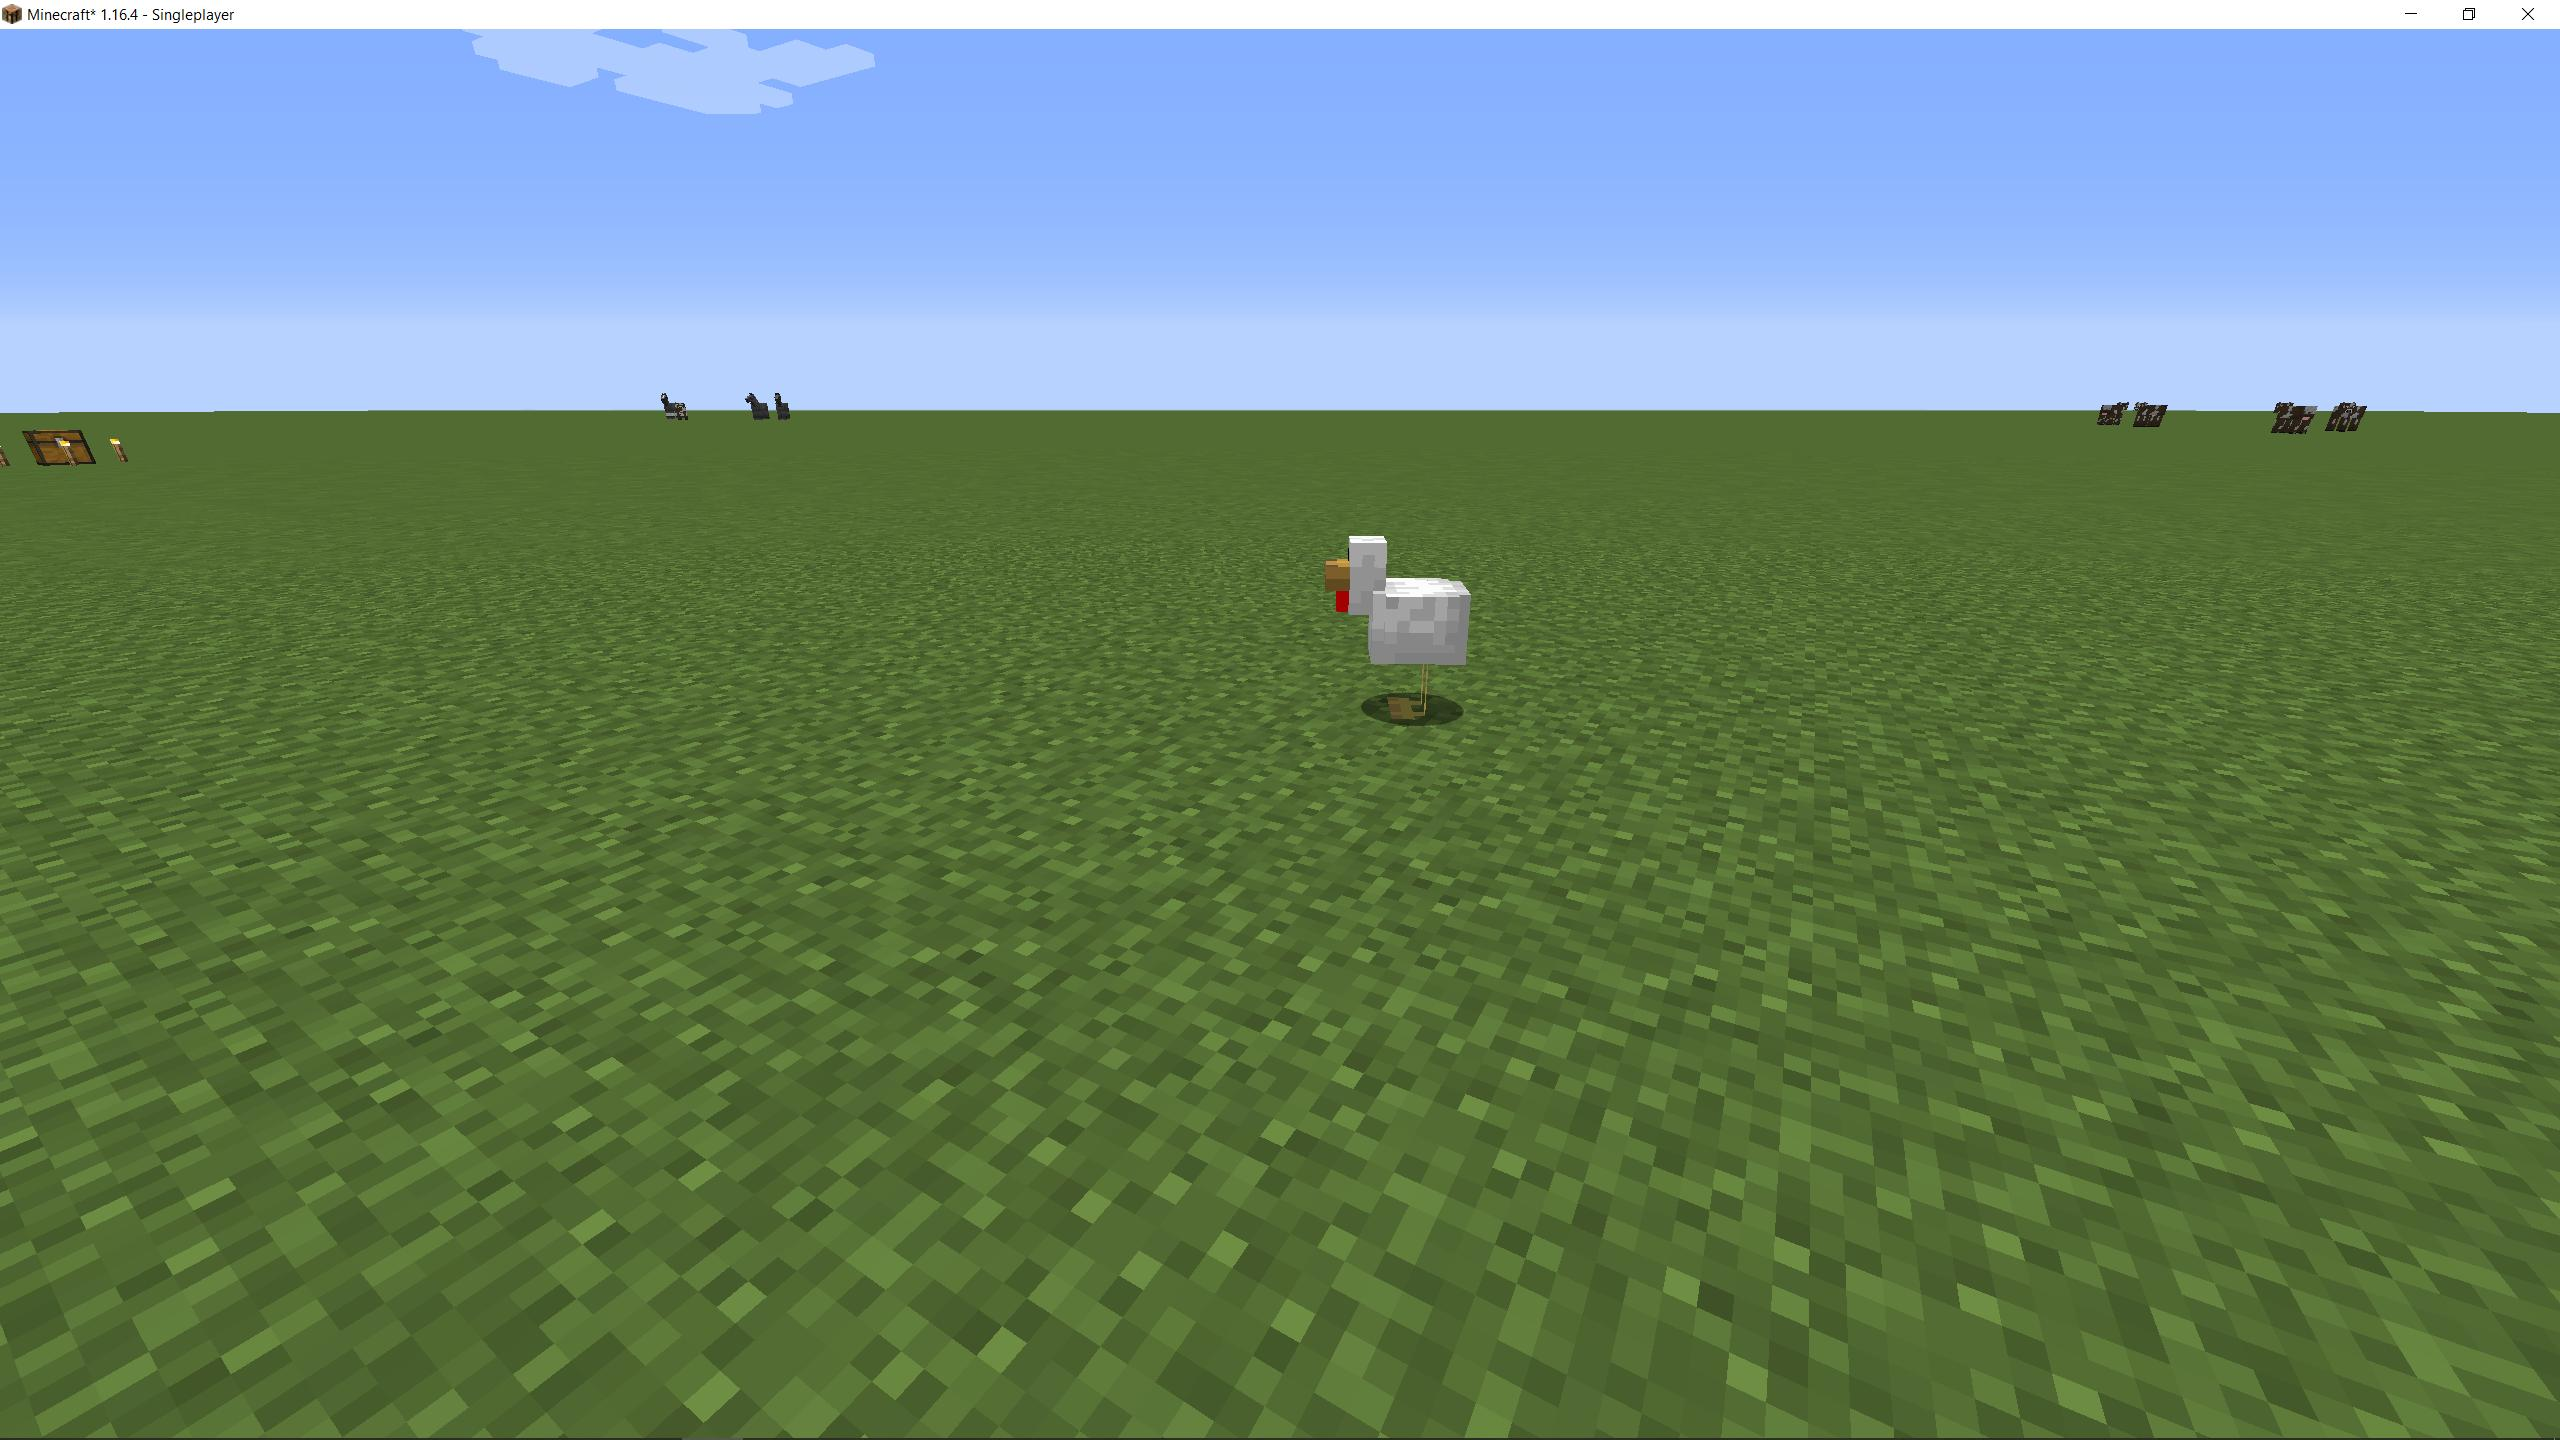chicken: (1315, 527, 1472, 724)
